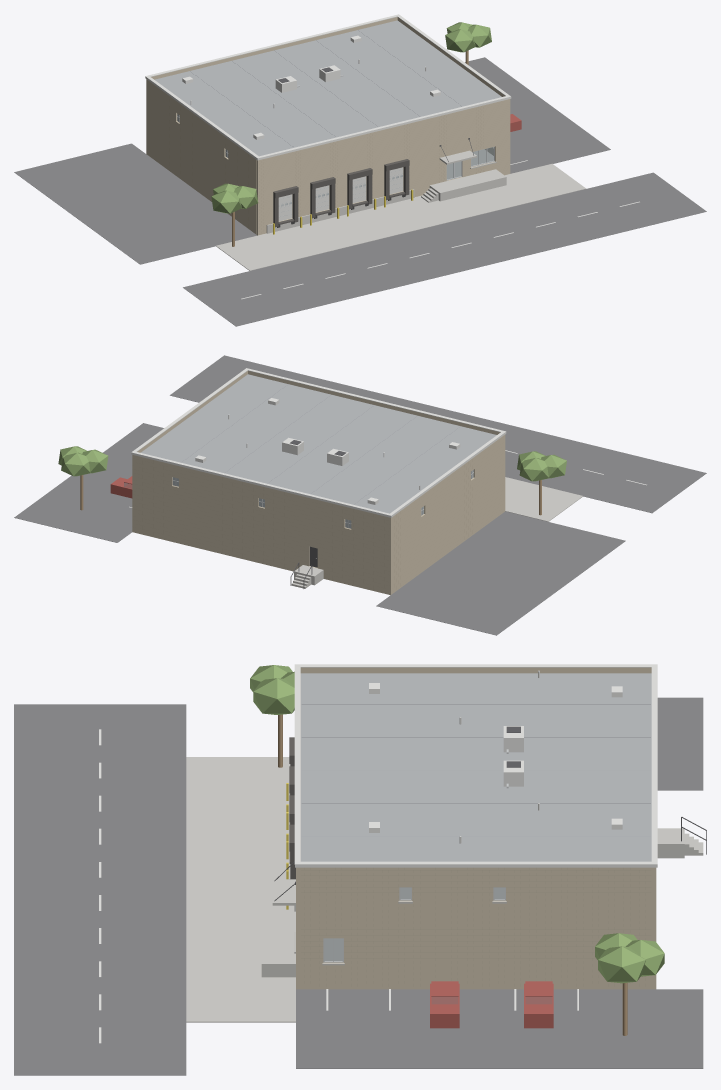
File: clay-cmu-dock-warehouse-clay-v003.glb
The picture shows the model from 3 angles, top to bottom: view 1: azimuth 30°, elevation 25°; view 2: azimuth 150°, elevation 25°; view 3: azimuth 270°, elevation 25°; orthographic projection. The views are drawn at different scales.
Visible parts, largest first — view 1: CLAY_ASPHALT, CLAY_MEMBRANE, CLAY_WALL, CLAY_CONCRETE, CLAY_PALE, CLAY_DOCK, CLAY_PLANTING, CLAY_DOOR, CLAY_JOINT, CLAY_GLASS, CLAY_ROOF, CLAY_WHITE (+1 smaller); view 2: CLAY_ASPHALT, CLAY_WALL, CLAY_MEMBRANE, CLAY_PALE, CLAY_CONCRETE, CLAY_PLANTING, CLAY_JOINT, CLAY_ROOF; view 3: CLAY_ASPHALT, CLAY_MEMBRANE, CLAY_WALL, CLAY_CONCRETE, CLAY_PALE, CLAY_JOINT, CLAY_PLANTING, CLAY_CAR, CLAY_ROOF, CLAY_WHITE, CLAY_GLASS, CLAY_FLOOR (+1 smaller).
Boxes of the visible parts, x1,y1,x2,y2 form: CLAY_ASPHALT: [14, 57, 706, 326]; CLAY_MEMBRANE: [154, 20, 501, 156]; CLAY_WALL: [146, 17, 510, 235]; CLAY_CONCRETE: [216, 150, 586, 270]; CLAY_PALE: [145, 14, 511, 160]; CLAY_DOCK: [273, 159, 409, 227]; CLAY_PLANTING: [211, 22, 491, 213]; CLAY_DOOR: [278, 167, 403, 221]; CLAY_JOINT: [169, 99, 483, 233]; CLAY_GLASS: [177, 114, 493, 206]; CLAY_ROOF: [190, 30, 462, 147]; CLAY_WHITE: [182, 35, 639, 299]; CLAY_ASPHALT: [14, 355, 706, 635]; CLAY_WALL: [132, 371, 505, 595]; CLAY_MEMBRANE: [141, 374, 496, 513]; CLAY_PALE: [131, 368, 506, 558]; CLAY_CONCRETE: [291, 477, 583, 588]; CLAY_PLANTING: [58, 446, 566, 481]; CLAY_JOINT: [142, 459, 472, 589]; CLAY_ROOF: [181, 384, 460, 504]; CLAY_ASPHALT: [14, 697, 703, 1075]; CLAY_MEMBRANE: [301, 673, 651, 861]; CLAY_WALL: [296, 667, 656, 989]; CLAY_CONCRETE: [186, 757, 703, 1022]; CLAY_PALE: [294, 664, 657, 867]; CLAY_JOINT: [301, 868, 650, 986]; CLAY_PLANTING: [250, 665, 664, 983]; CLAY_CAR: [430, 981, 553, 1028]; CLAY_ROOF: [301, 704, 650, 836]; CLAY_WHITE: [99, 683, 622, 1043]; CLAY_GLASS: [324, 887, 551, 1003]; CLAY_FLOOR: [300, 673, 504, 960].
Bounding box in the file's own units: 57 × 9.48 × 44.23.
